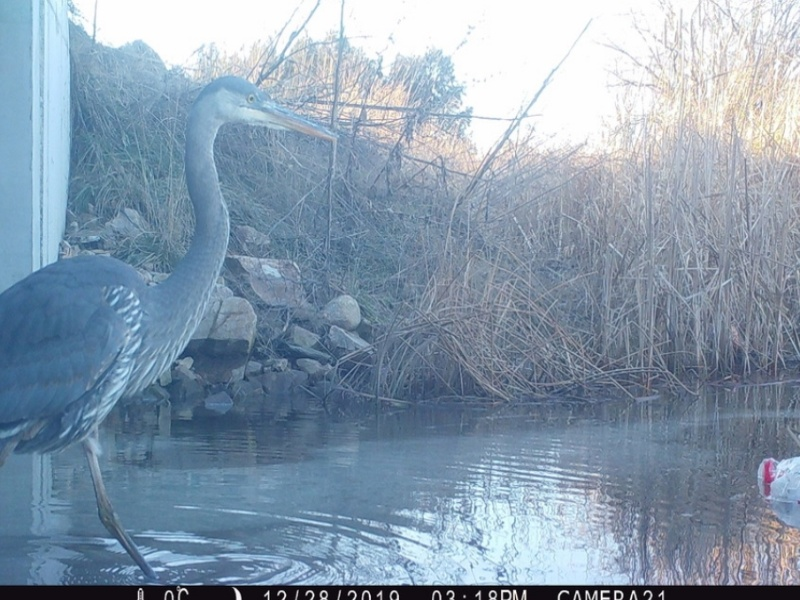heron: (5, 72, 344, 576)
